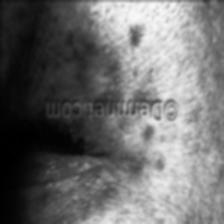Non-Cancerous Skin Condition: (37, 15, 132, 83), (99, 144, 178, 216)
